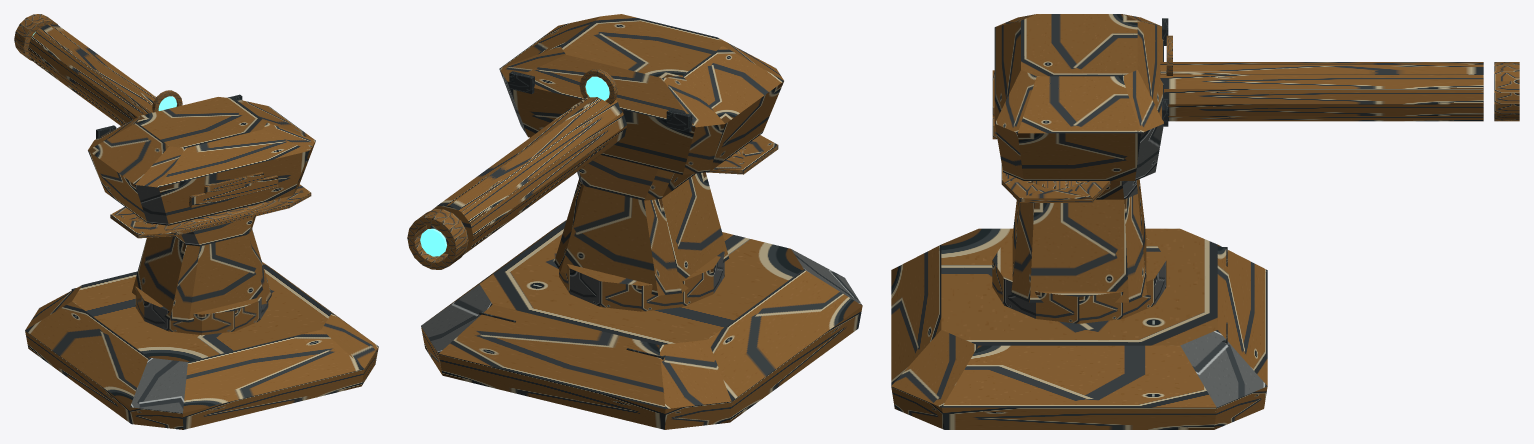
Rendered from fixed_mini.glb.
3 renders of one model, left to right at view 1: azimuth 30°, elevation 25°; view 2: azimuth 150°, elevation 25°; view 3: azimuth 270°, elevation 25°, orthographic. The views are drawn at different scales.
Visible parts, largest first — view 1: STProp_fixed_mini_Body, STProp_fixed_mini_HeadMesh; view 2: STProp_fixed_mini_Body, STProp_fixed_mini_HeadMesh; view 3: STProp_fixed_mini_Body, STProp_fixed_mini_HeadMesh.
Boxes of the visible parts, box(x1,y1,x2,y2) form: STProp_fixed_mini_Body: box(25, 216, 378, 429); STProp_fixed_mini_HeadMesh: box(14, 14, 315, 238); STProp_fixed_mini_Body: box(421, 155, 862, 429); STProp_fixed_mini_HeadMesh: box(407, 14, 783, 269); STProp_fixed_mini_Body: box(891, 179, 1267, 429); STProp_fixed_mini_HeadMesh: box(992, 14, 1519, 202).
Bounding box in the file's own units: 1.77 × 1.63 × 2.95.
Materials: 4 (3 with a texture image).
